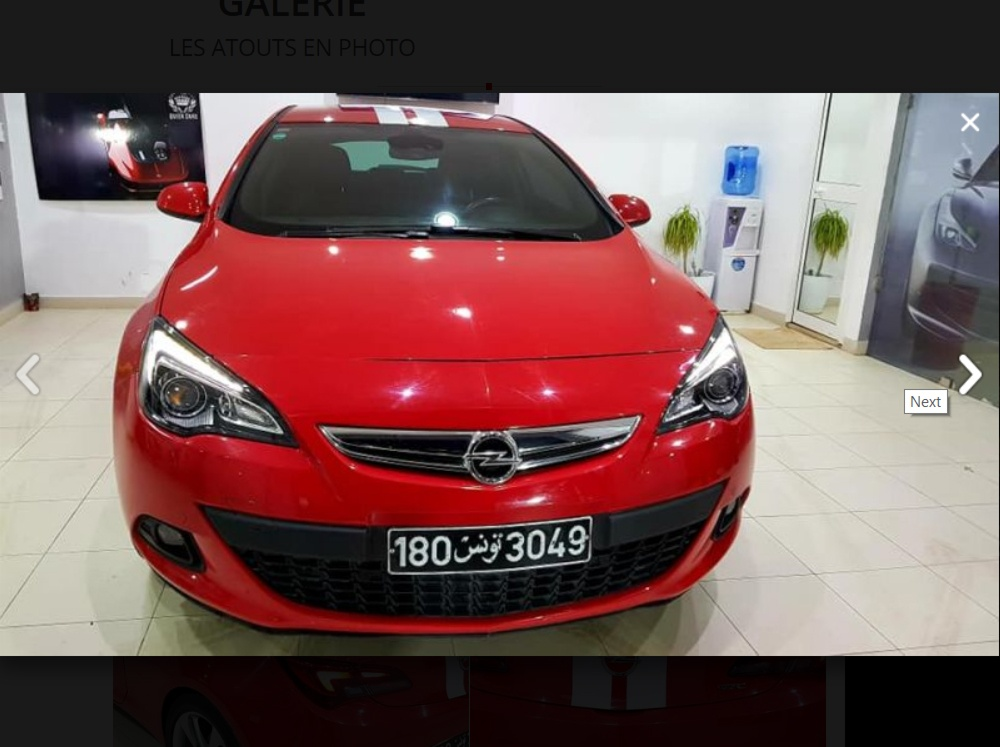LP: (385, 514, 601, 580)
